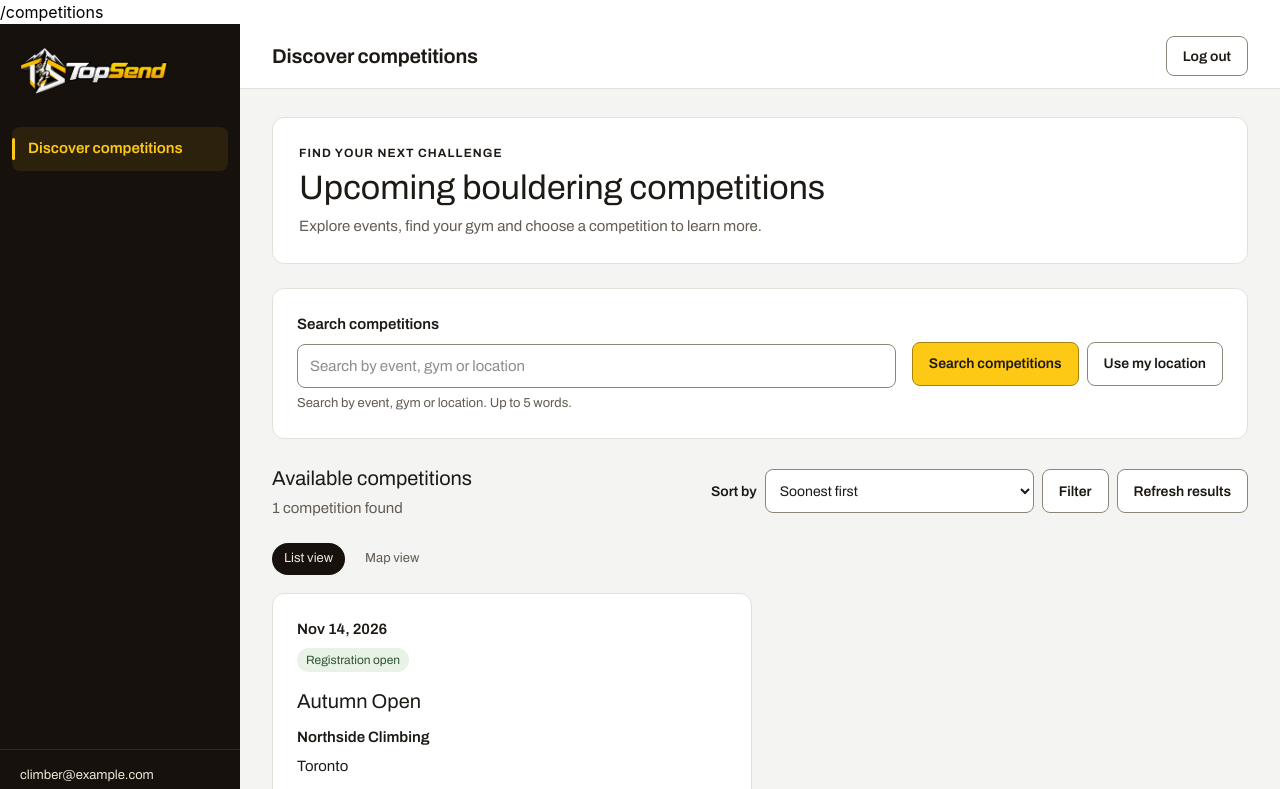
Test: US025 starting from a place the Climber searches for (criterion 6) › asks for a place to be picked when it's only typed, and stays on the place
This screenshot has width=1280, height=789.
Click the button "Filter" at (1075,491), box [1042,469,1109,513]
(page scrolled)
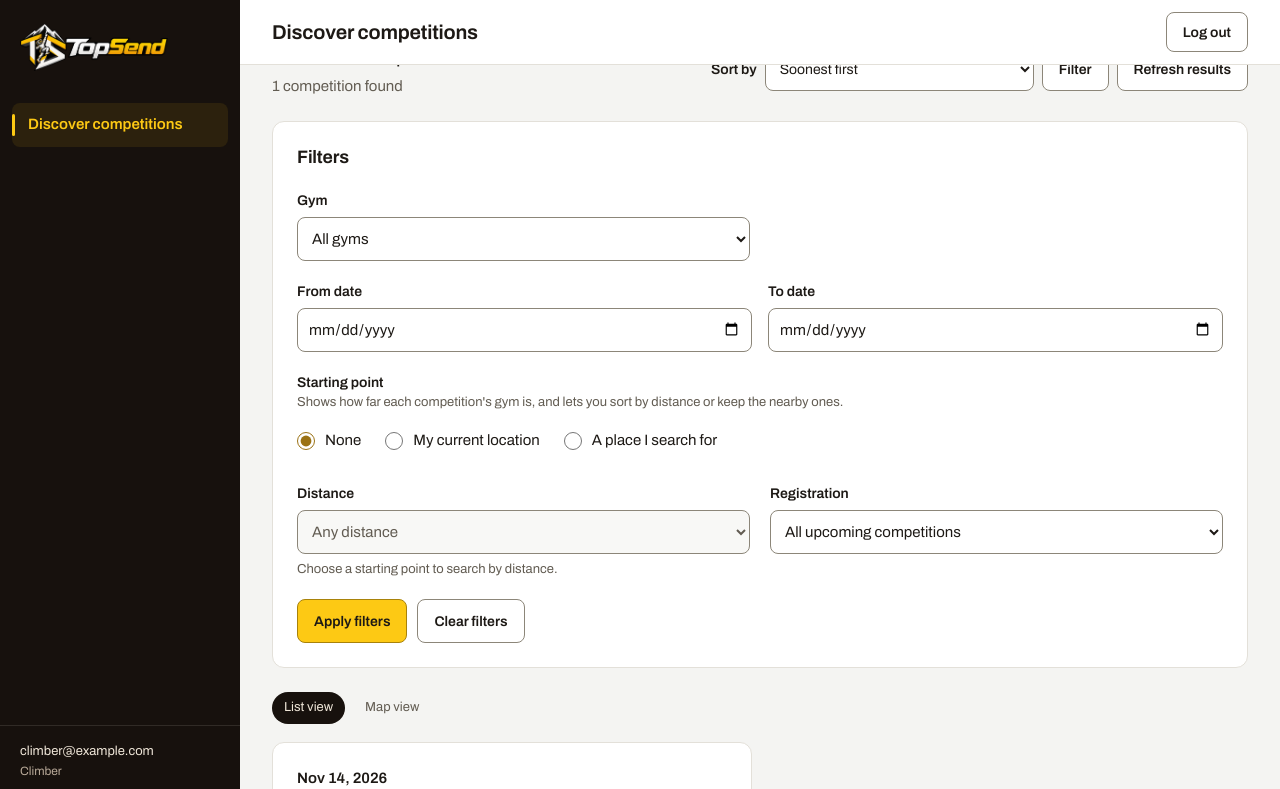
Click the radio button labelled "A place I search for" at (573,441), box [564,432,582,450]
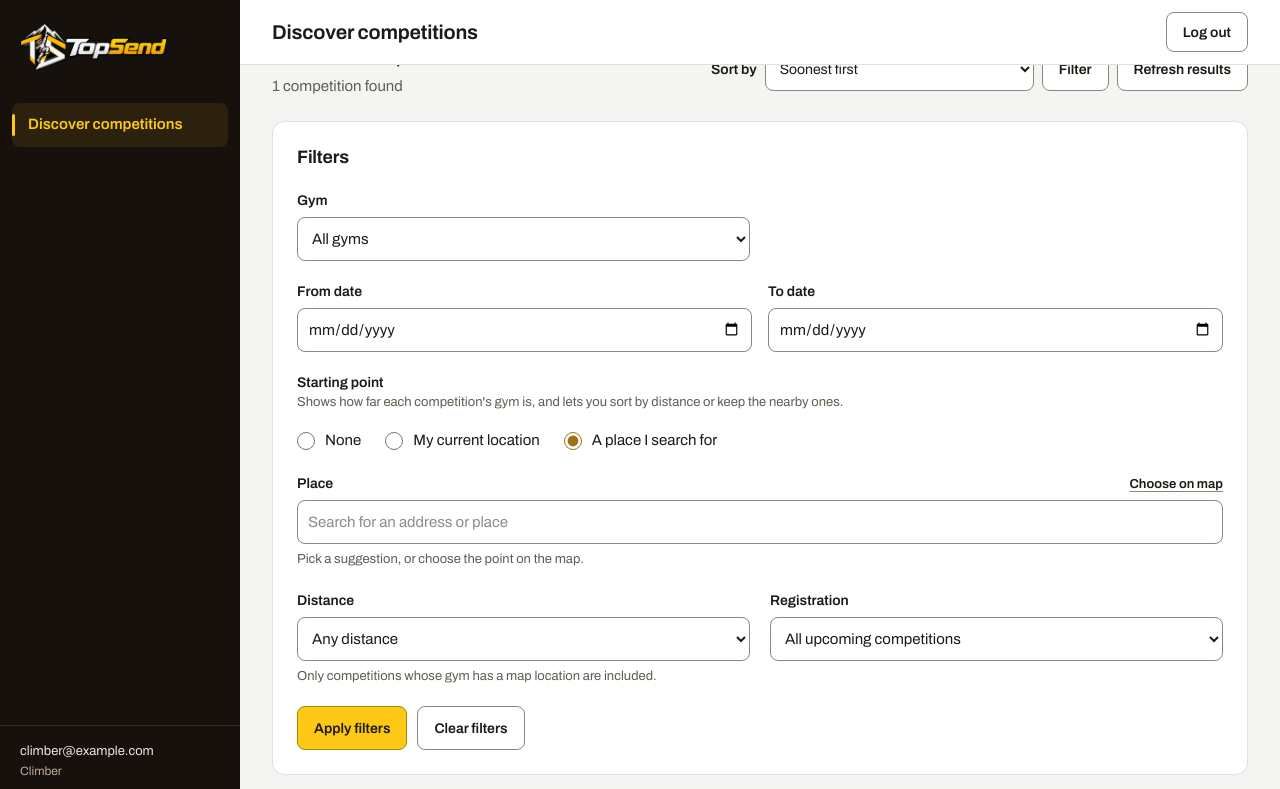
Type "Somewhere" into the dropdown labelled "Place" at (760,522), box [297,500,1223,544]
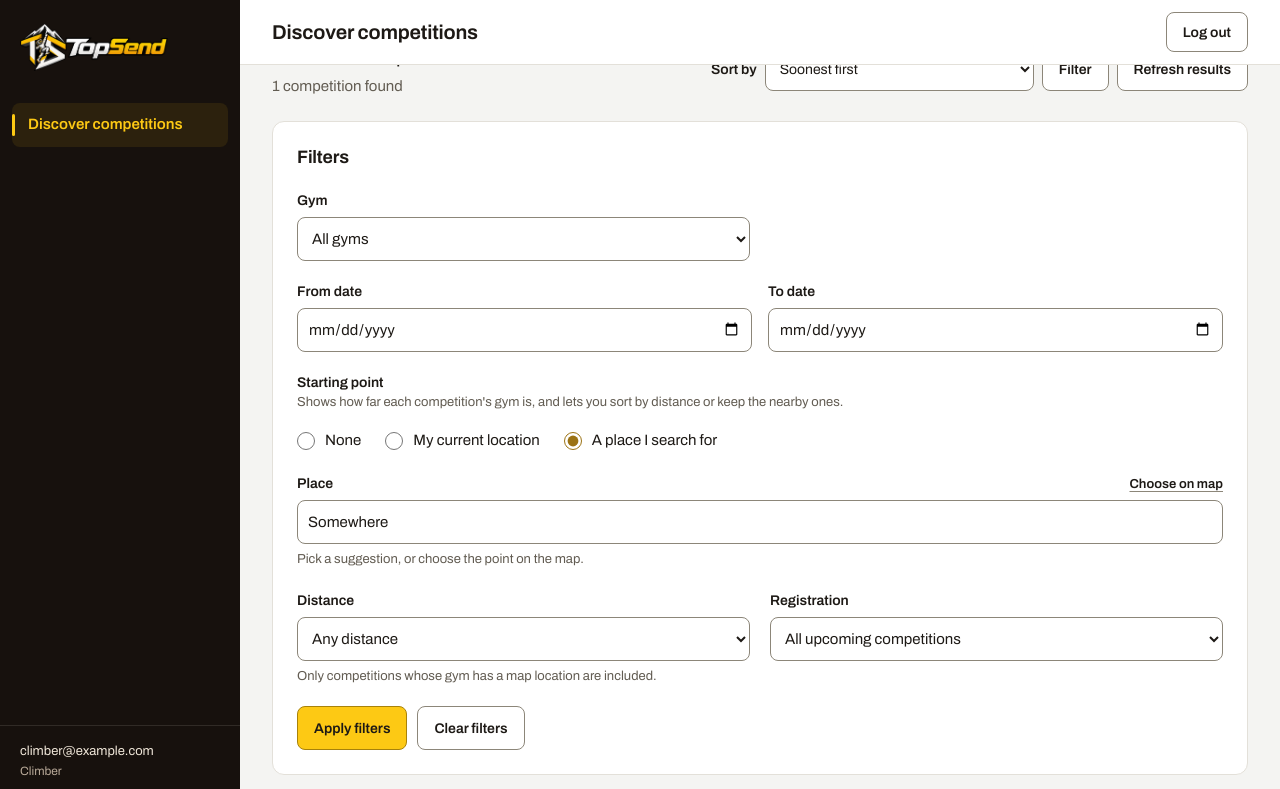
Click the button "Apply filters" at (352,728), box [297,706,408,750]
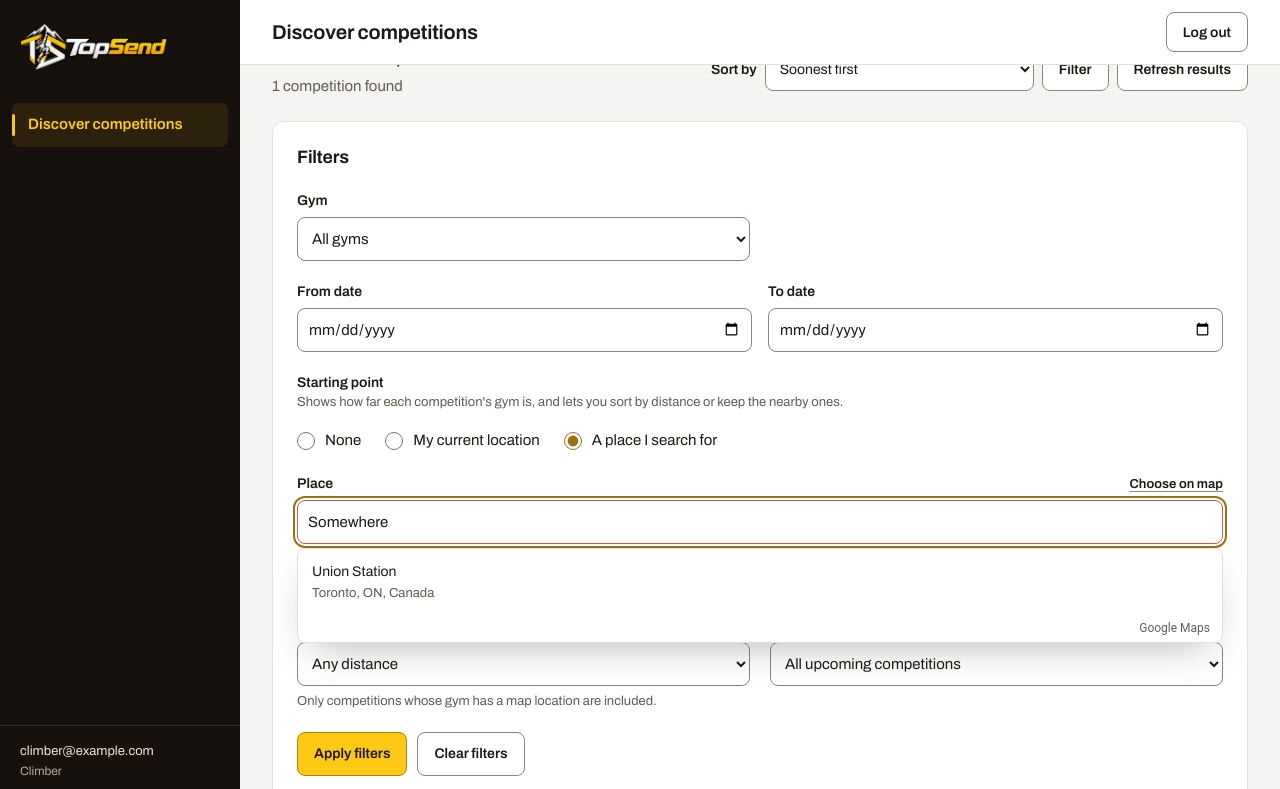
Expected: the text "Choose a place from the suggestions or on the map." is shown, [297,578,594,592]
